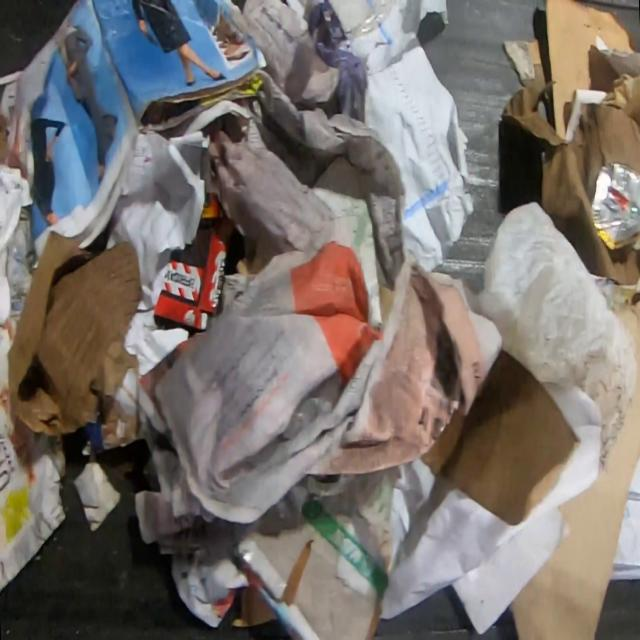cardboard: (510, 275, 640, 640), (498, 63, 640, 286), (418, 350, 581, 527), (233, 466, 393, 640), (7, 229, 142, 435), (0, 316, 67, 592), (544, 0, 638, 140), (152, 189, 234, 330)
metal: (590, 161, 640, 250)
soft_plastic: (462, 200, 638, 474)
